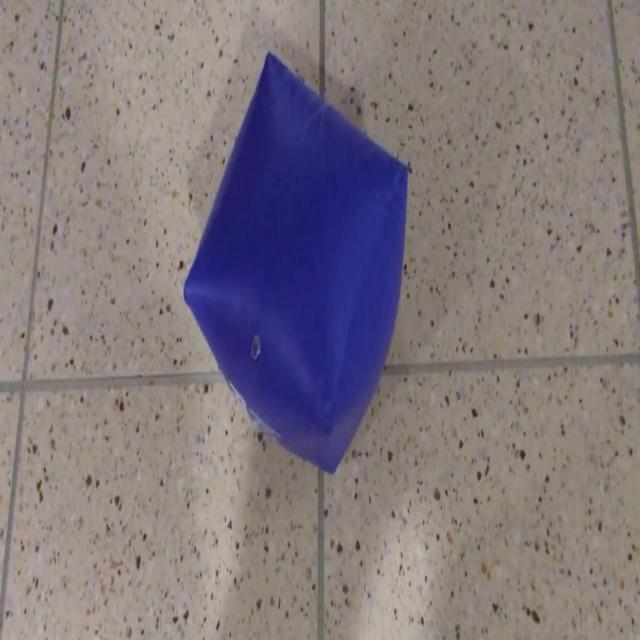frc_cube: (182, 49, 406, 473)
